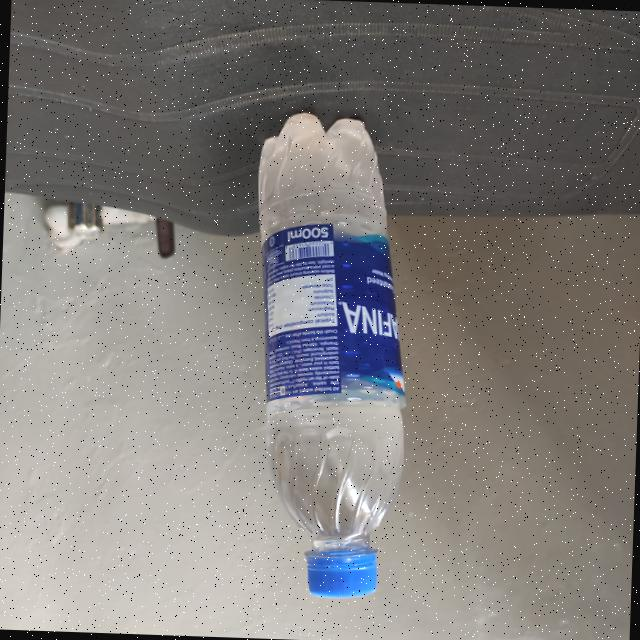bottle: (240, 112, 416, 604)
cap: (293, 545, 382, 604)
label: (254, 225, 404, 412)
